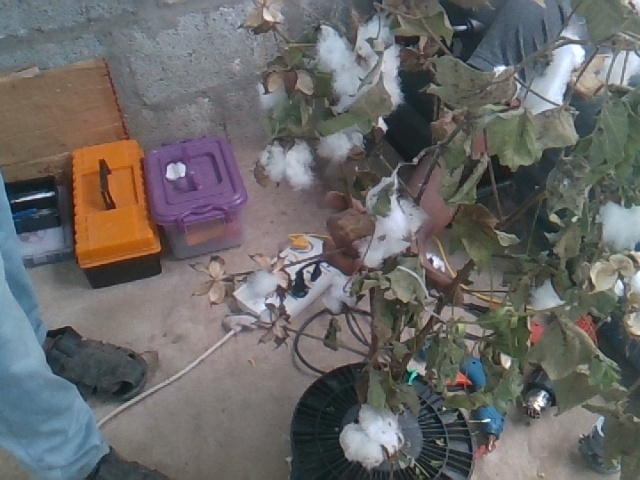cotton: (321, 19, 399, 111), (358, 190, 420, 267), (344, 402, 407, 462), (265, 134, 310, 193), (599, 199, 640, 249), (244, 267, 279, 297)
